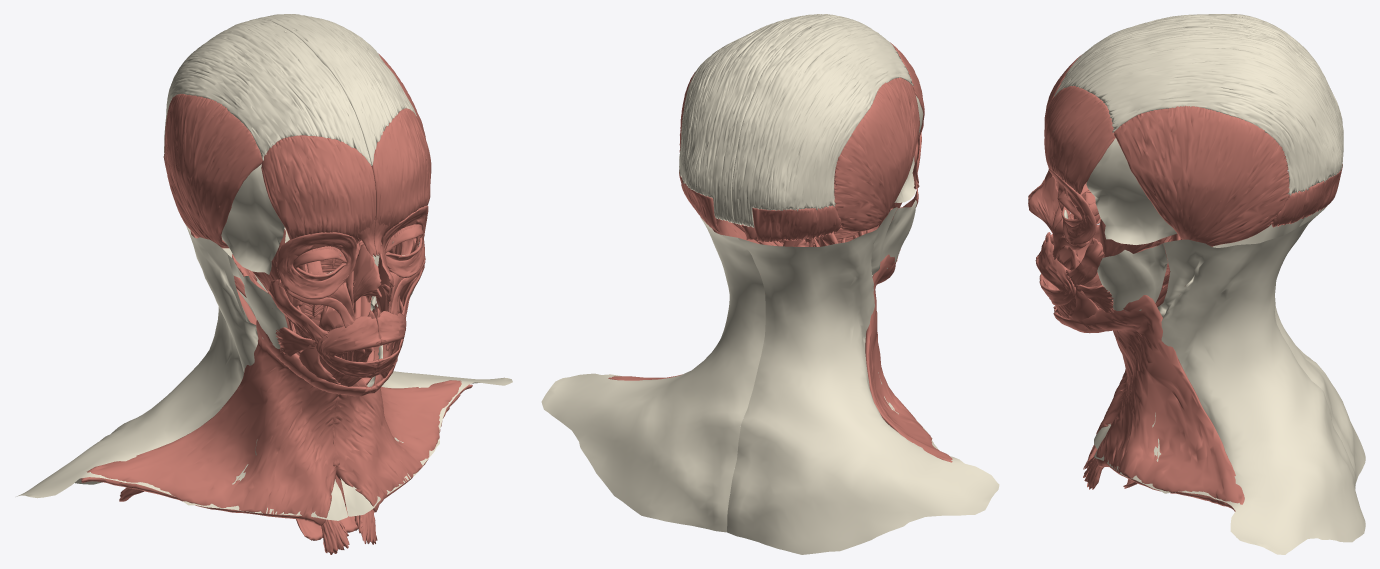
File: muscles-head-neck.glb
3 renders of one model, left to right at view 1: azimuth 30°, elevation 25°; view 2: azimuth 150°, elevation 25°; view 3: azimuth 270°, elevation 25°, orthographic. The views are drawn at different scales.
Parts seen in each view (by area): view 1: Platysma.r.001, Epicranial aponeurosis.r.001, Superficial investing cervical fascia.r.001, Platysma.l.001, Temporoparietalis muscle.r.001, Frontalis muscle.r.001, Epicranial aponeurosis.l.001, Frontalis muscle.l.001, Superficial layer of temporal fascia.r.001, Orbital part of orbicularis oculi.r.001, Superficial investing cervical fascia.l.001, Orbicularis oris muscle.r.001 (+12 smaller); view 2: Superficial investing cervical fascia.r.001, Superficial investing cervical fascia.l.001, Epicranial aponeurosis.r.001, Epicranial aponeurosis.l.001, Temporoparietalis muscle.r.001, Platysma.r.001, Occipitalis muscle.r.001, Masseteric fascia.r.001, Occipitalis muscle.l.001; view 3: Superficial investing cervical fascia.l.001, Epicranial aponeurosis.l.001, Temporoparietalis muscle.l.001, Platysma.l.001, Frontalis muscle.l.001, Superficial layer of temporal fascia.l.001, Superficial investing cervical fascia.r.001, Epicranial aponeurosis.r.001, Masseteric fascia.l.001, Occipitalis muscle.l.001, Orbicularis oris muscle.l.001, Orbital part of orbicularis oculi.l.001 (+7 smaller).
Part boxes in pixels (bbox=[...]): Platysma.r.001: bbox=[80, 320, 371, 525]; Epicranial aponeurosis.r.001: bbox=[164, 19, 371, 165]; Superficial investing cervical fascia.r.001: bbox=[16, 224, 347, 520]; Platysma.l.001: bbox=[333, 303, 472, 512]; Temporoparietalis muscle.r.001: bbox=[164, 93, 262, 248]; Frontalis muscle.r.001: bbox=[261, 135, 375, 241]; Epicranial aponeurosis.l.001: bbox=[256, 14, 416, 165]; Frontalis muscle.l.001: bbox=[371, 108, 431, 235]; Superficial layer of temporal fascia.r.001: bbox=[221, 164, 284, 274]; Orbital part of orbicularis oculi.r.001: bbox=[276, 232, 356, 299]; Superficial investing cervical fascia.l.001: bbox=[258, 166, 512, 516]; Orbicularis oris muscle.r.001: bbox=[316, 316, 381, 378]; Superficial investing cervical fascia.r.001: bbox=[727, 207, 999, 554]; Superficial investing cervical fascia.l.001: bbox=[541, 216, 765, 532]; Epicranial aponeurosis.r.001: bbox=[732, 16, 913, 227]; Epicranial aponeurosis.l.001: bbox=[679, 14, 842, 223]; Temporoparietalis muscle.r.001: bbox=[834, 77, 919, 231]; Platysma.r.001: bbox=[865, 254, 952, 462]; Occipitalis muscle.r.001: bbox=[752, 205, 840, 242]; Masseteric fascia.r.001: bbox=[880, 200, 916, 268]; Occipitalis muscle.l.001: bbox=[679, 171, 720, 232]; Superficial investing cervical fascia.l.001: bbox=[1094, 206, 1365, 554]; Epicranial aponeurosis.l.001: bbox=[1054, 25, 1343, 195]; Temporoparietalis muscle.l.001: bbox=[1114, 105, 1289, 246]; Platysma.l.001: bbox=[1053, 295, 1244, 511]; Frontalis muscle.l.001: bbox=[1044, 86, 1115, 194]; Superficial layer of temporal fascia.l.001: bbox=[1086, 138, 1176, 244]; Superficial investing cervical fascia.r.001: bbox=[1094, 217, 1365, 483]; Epicranial aponeurosis.r.001: bbox=[1054, 14, 1343, 139]; Masseteric fascia.l.001: bbox=[1097, 243, 1167, 310]; Occipitalis muscle.l.001: bbox=[1271, 164, 1342, 227]; Orbicularis oris muscle.l.001: bbox=[1035, 241, 1075, 305]; Orbital part of orbicularis oculi.l.001: bbox=[1048, 168, 1096, 245].
Bounding box in the file's own units: 0.3486 × 0.3365 × 0.2196.
